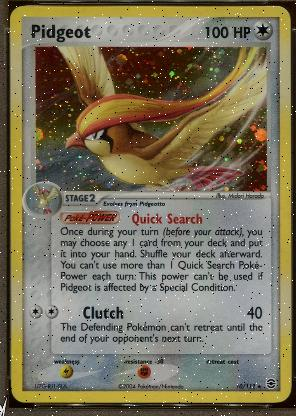Scratch: (4, 1, 292, 407)
